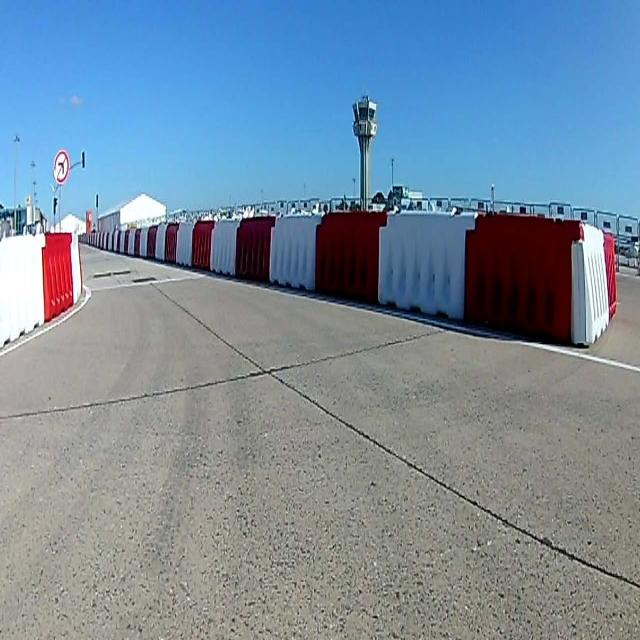soladonulmez: (53, 148, 70, 186)
